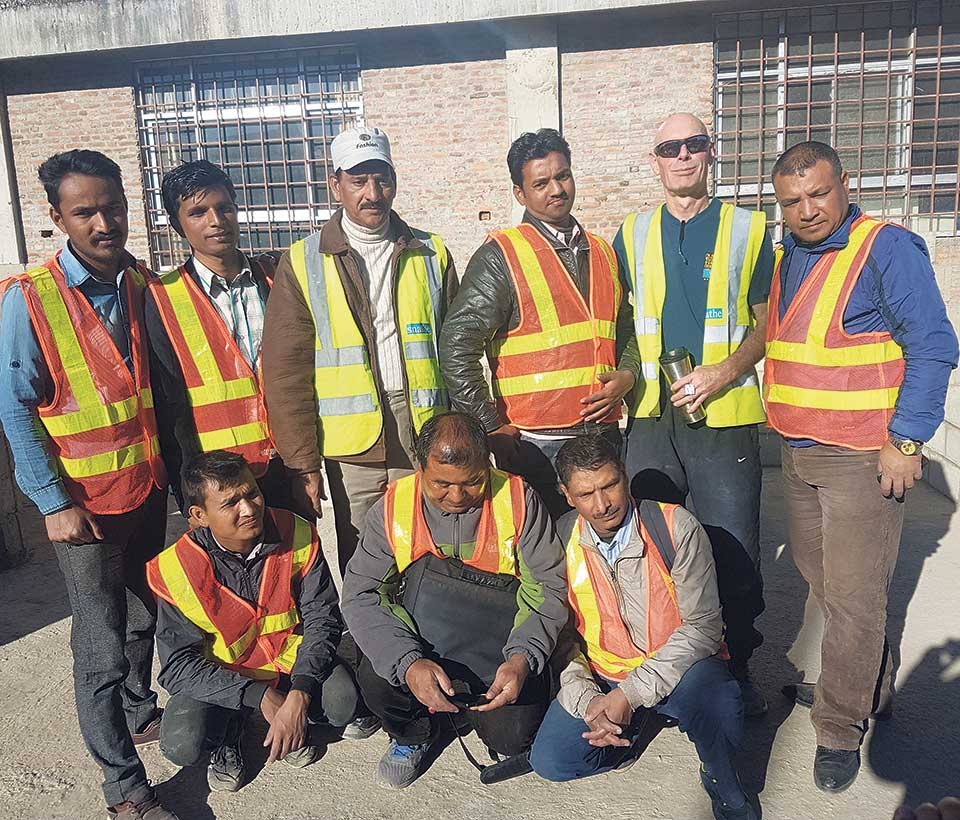face: (33, 160, 139, 262), (644, 120, 741, 203), (761, 160, 858, 231), (171, 191, 255, 260), (328, 166, 421, 226), (504, 162, 585, 217)
jacket: (5, 262, 171, 512), (759, 234, 921, 446), (281, 225, 444, 429), (142, 534, 344, 697), (616, 202, 759, 426), (142, 259, 285, 460), (485, 215, 621, 425), (558, 529, 695, 680), (376, 505, 538, 595)
